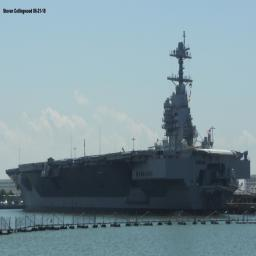Portanaves: (4, 26, 254, 225)
